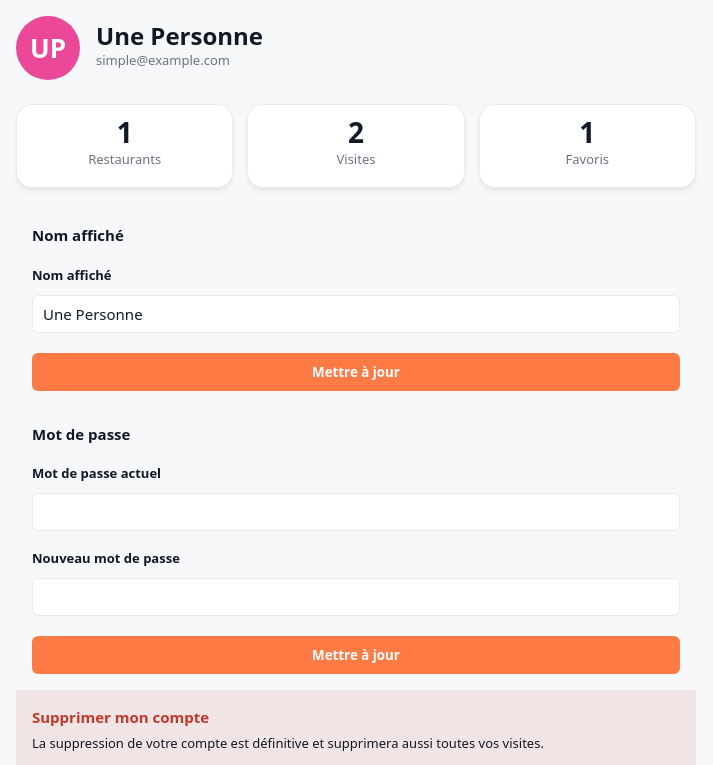
Test: ProfilPage › change le nom affiché et déclenche un rafraîchissement du contexte
The width and height of the screenshot is (713, 765).
Replace the text in the field labelled "Nom affiché" with "Nouveau Nom" at (356,314), box [32,295,680,333]
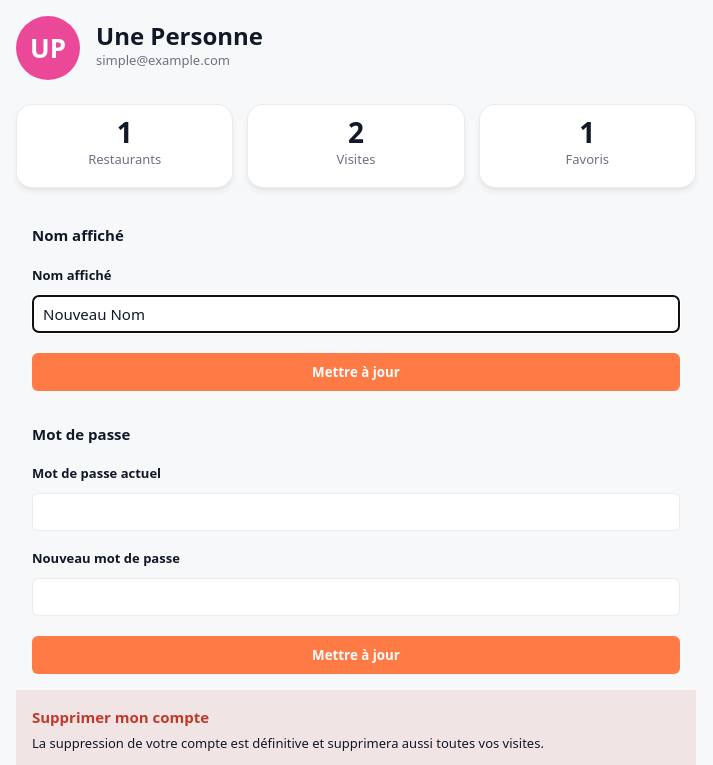
Click the 1st button "Mettre à jour" at (356,372), box [32,353,680,391]
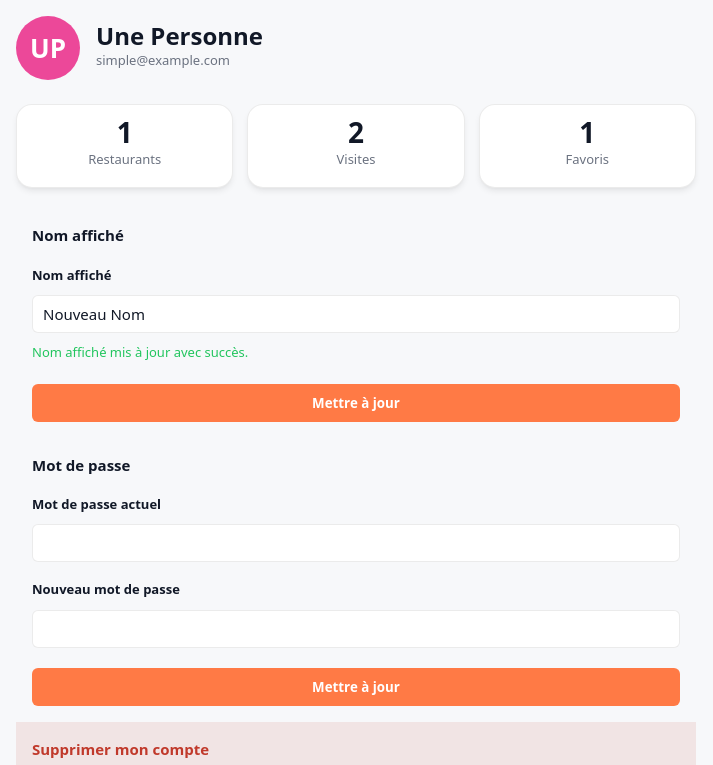
Now the text "Nom affiché mis à jour avec succès." is shown, box [32,343,248,361]
